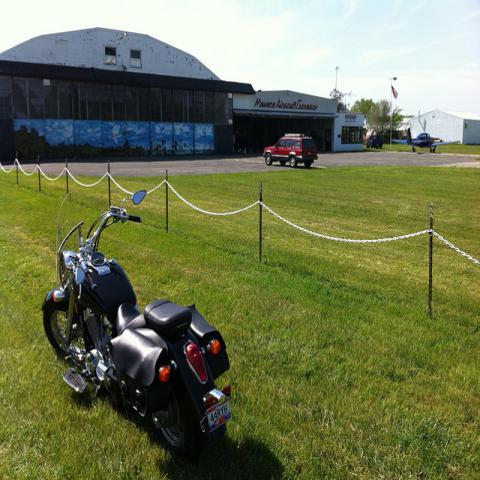motorcycle: (45, 188, 236, 456)
truck: (263, 133, 319, 168), (366, 135, 383, 149)
